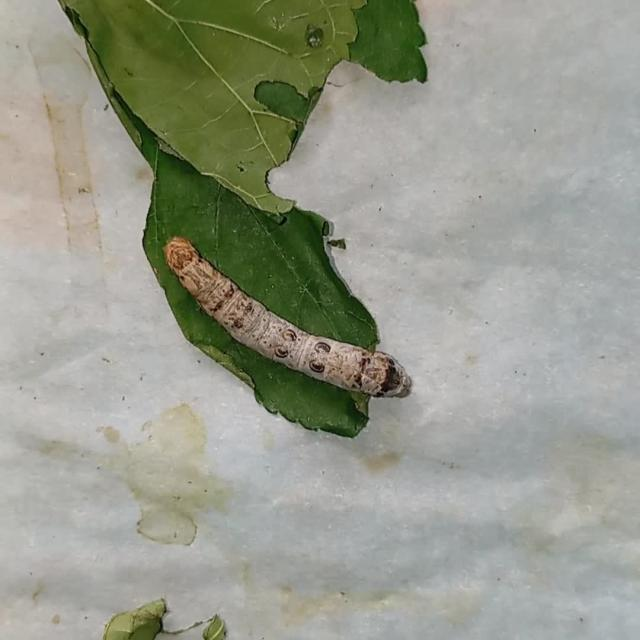Grasserie: (138, 194, 448, 438)
